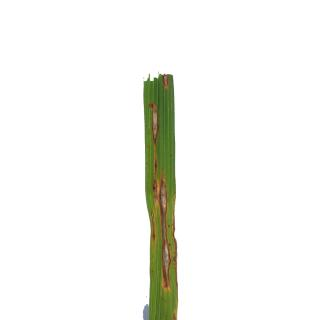Blast: (151, 176, 172, 291), (148, 101, 162, 148), (160, 74, 170, 88)
